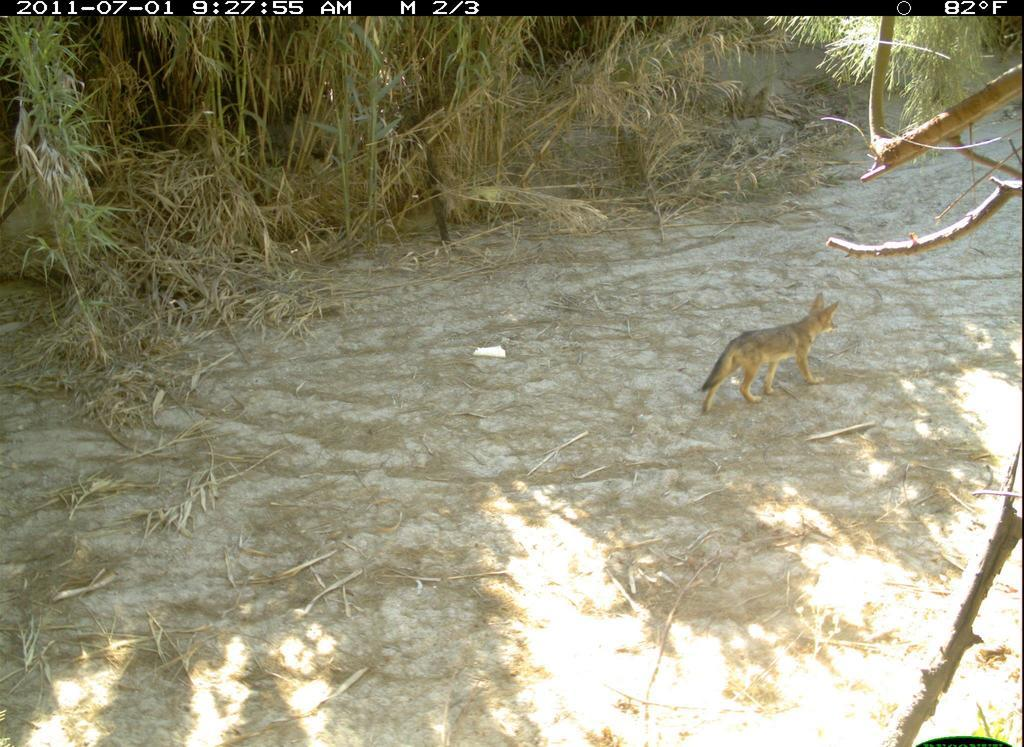coyote: (694, 290, 840, 420)
